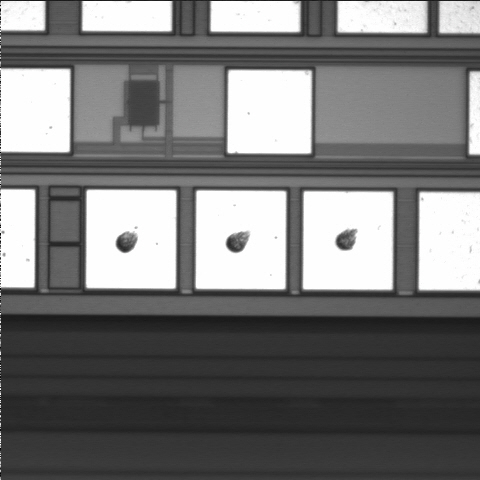pad: (86, 190, 176, 289), (303, 191, 393, 290), (196, 191, 286, 289), (228, 70, 312, 154)
